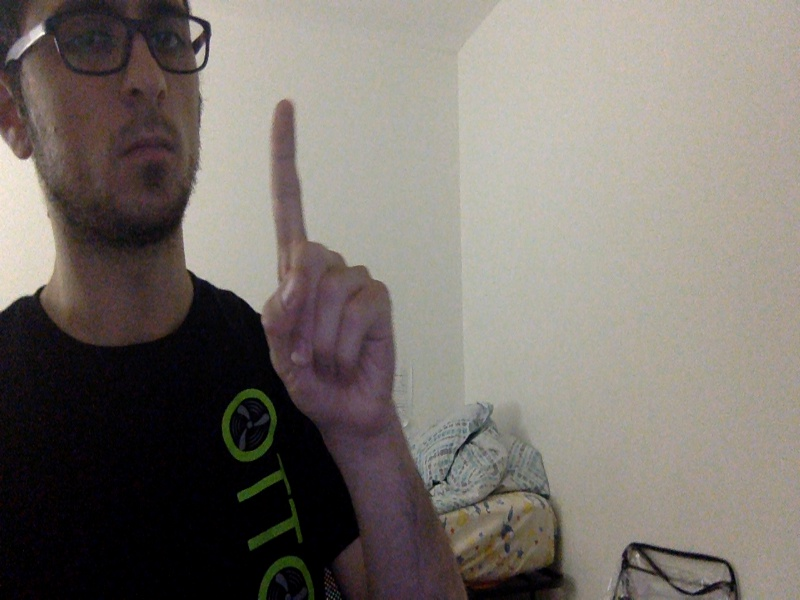1-hand: (260, 97, 396, 434)
